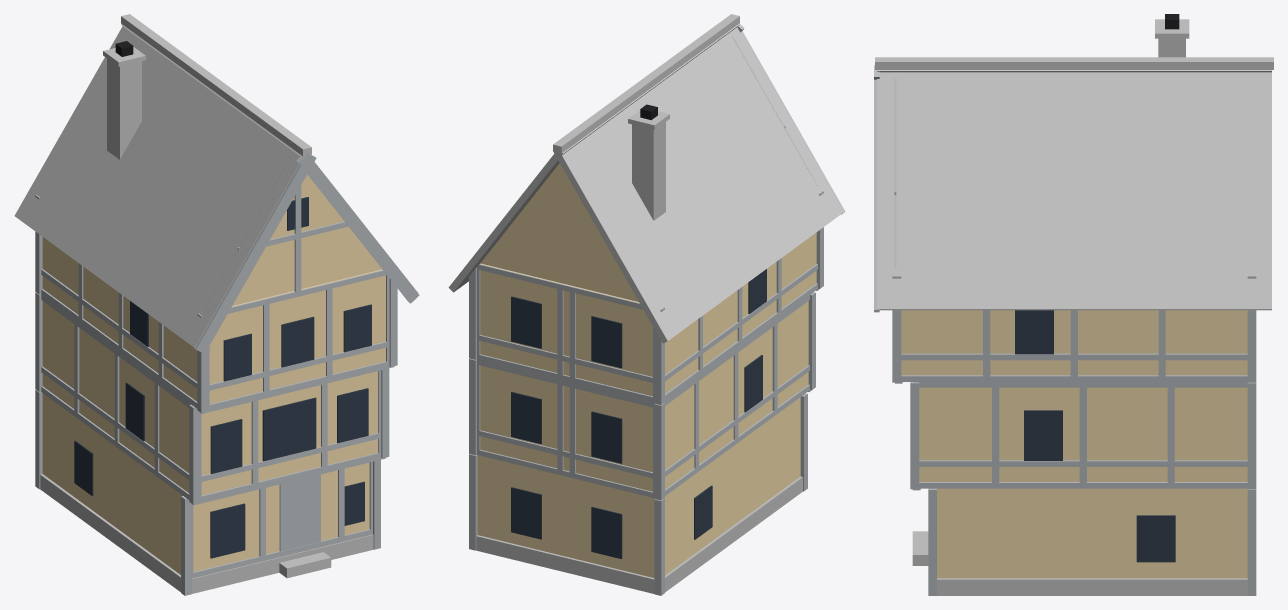
File: generated.tall_house.gltf
3 views of the same model, side by side, from view 1: azimuth 30°, elevation 25°; view 2: azimuth 150°, elevation 25°; view 3: azimuth 270°, elevation 25° (orthographic). The views are drawn at different scales.
Parts seen in each view (by area): view 1: tall_house; view 2: tall_house; view 3: tall_house.
Boxes of the visible parts, <box> form: tall_house: <box>14,14,419,595</box>; tall_house: <box>448,14,845,595</box>; tall_house: <box>874,14,1273,595</box>.
Bounding box in the file's own units: 7.1 × 13.87 × 10.02.
